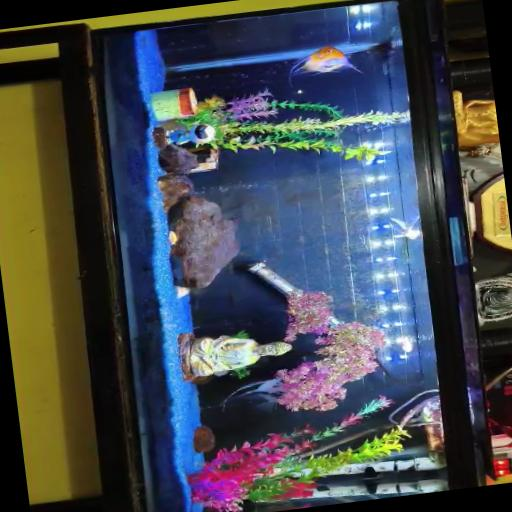Fish: (288, 47, 360, 83), (220, 379, 281, 411), (390, 218, 420, 240), (400, 336, 412, 352), (168, 231, 176, 244)
